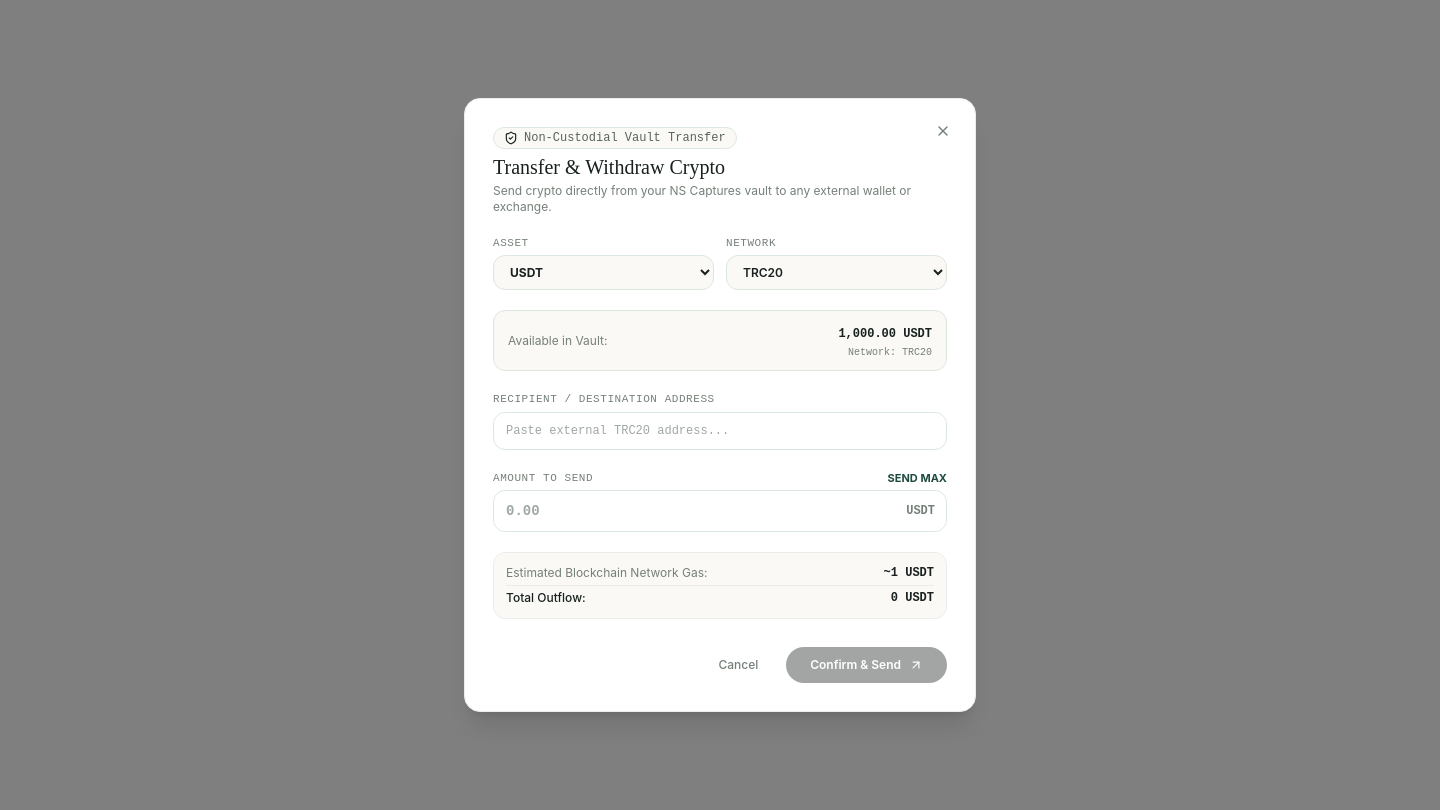
TransferCryptoModal › validates TRON TRC20 address: rejects invalid prefix and wrong length, accepts valid T... address
The image size is (1440, 810).
In the field with placeholder "Paste external TRC20 address...": {"x": 720, "y": 431} [493, 412, 947, 450], type "0x71C8363837918a71018283719284729184719284"
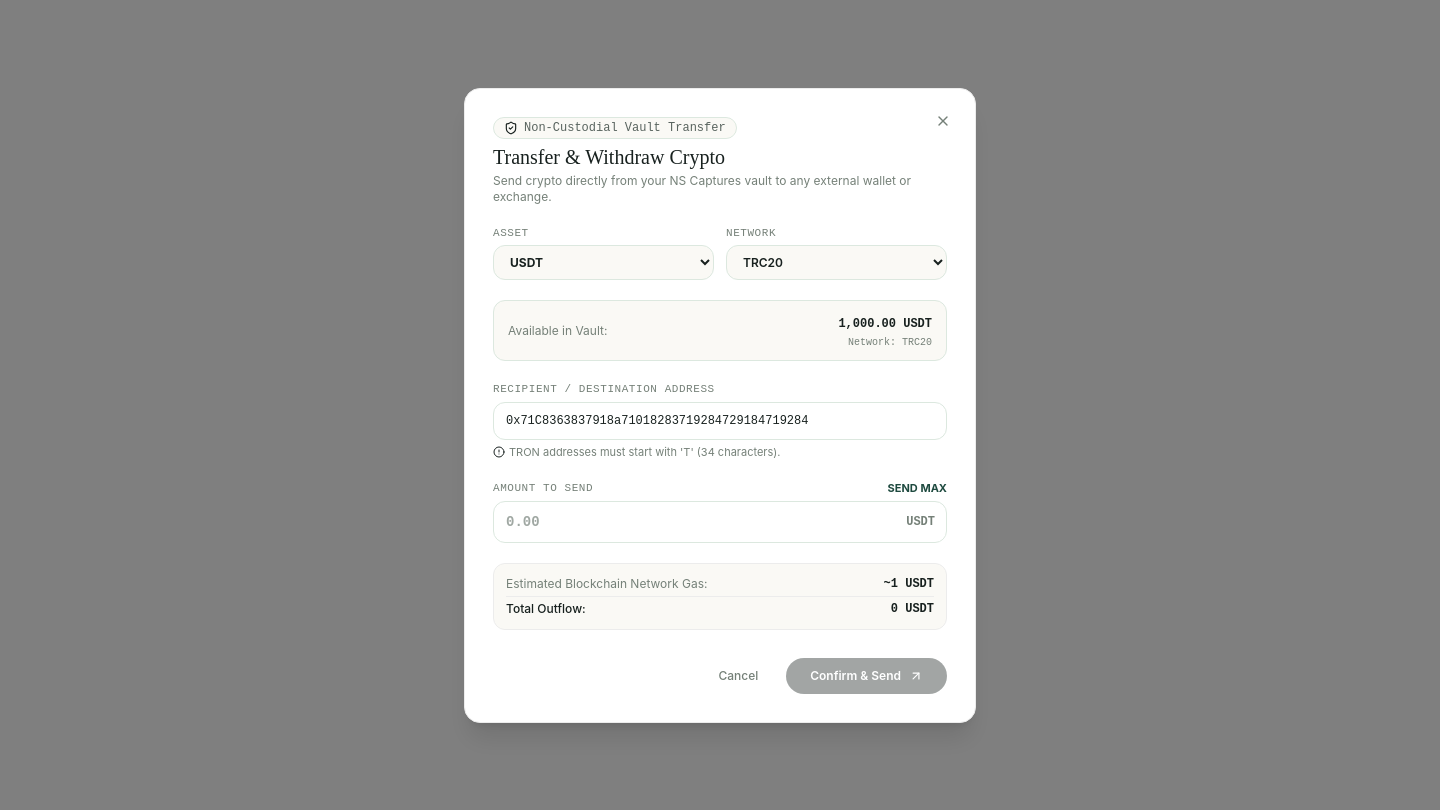
Expected: the button "Confirm & Send" is disabled, [786, 658, 947, 694]
Now the text "TRON addresses must start with 'T' (34 characters)." is shown, box [509, 444, 780, 460]
Enter valid TRON address (34 chars starting with T)
Replace the text in the field with placeholder "Paste external TRC20 address..." with "TYsJ19v81BshD8rJv6Qj2b8w4Zpxk89B7x": {"x": 720, "y": 420} [493, 402, 947, 440]
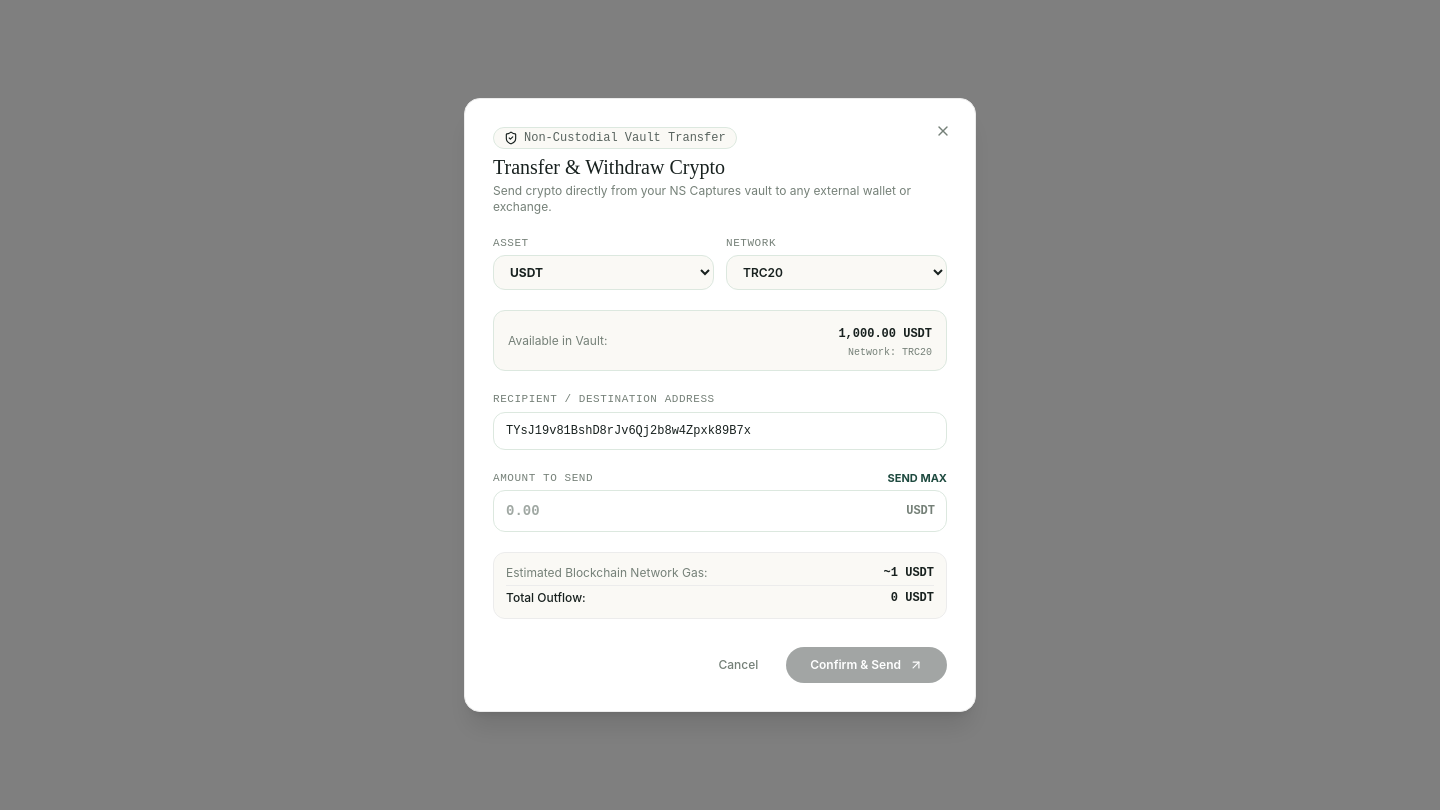
Now the text "TRON addresses must start with 'T' (34 characters)." is gone
